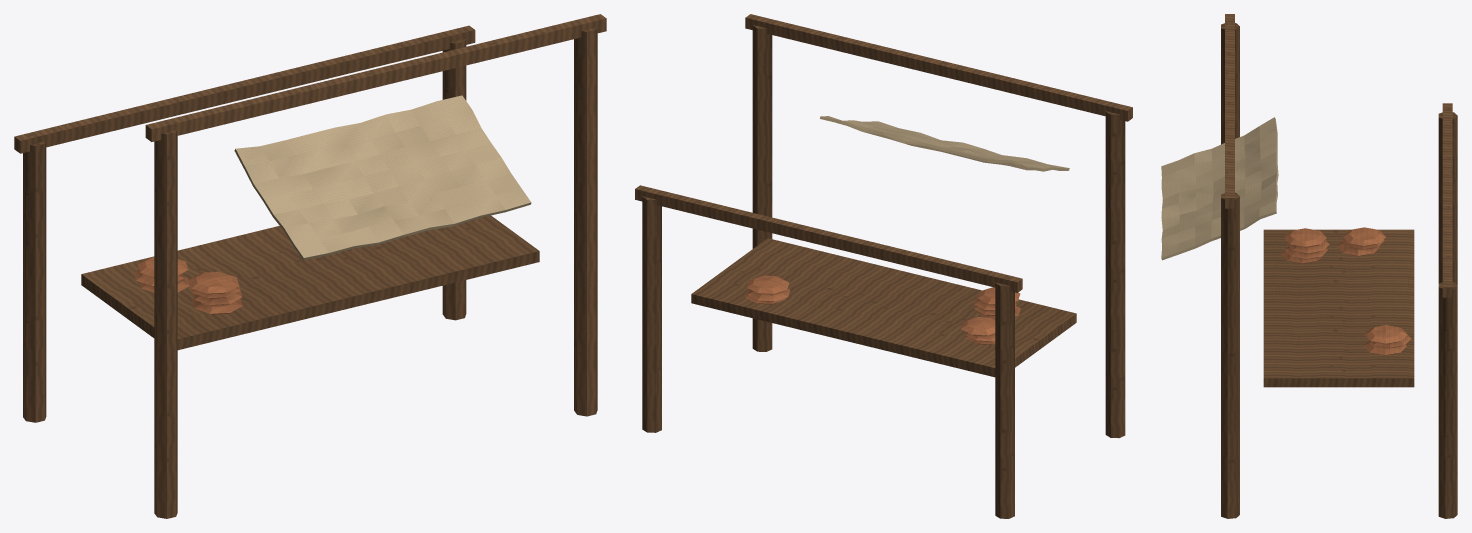
The model's file is leanto_bread.glb.
The picture shows the model from 3 angles, left to right: view 1: azimuth 30°, elevation 25°; view 2: azimuth 150°, elevation 25°; view 3: azimuth 270°, elevation 25°; orthographic projection. The views are drawn at different scales.
Visible parts, largest first — view 1: leanto_bread; view 2: leanto_bread; view 3: leanto_bread.
Part boxes in pixels (x1,y1,x2,y2): leanto_bread: [14, 14, 606, 518]; leanto_bread: [635, 14, 1132, 518]; leanto_bread: [1161, 14, 1457, 518].
Size of the model in its own units: 2.6 by 2.13 by 1.77.
3 materials, 3 textured.
